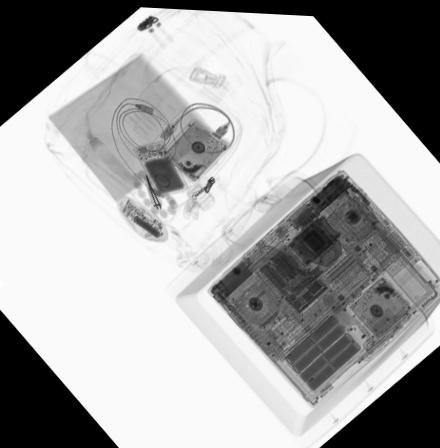Powerbank: (131, 140, 191, 197)
